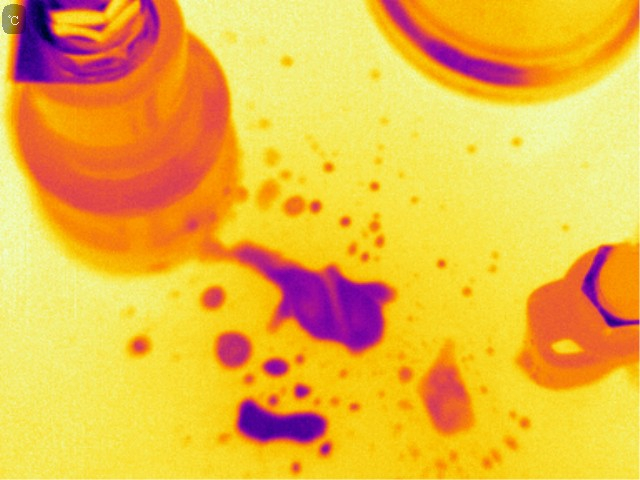Water: (220, 236, 398, 353), (418, 338, 475, 438), (229, 398, 330, 446), (212, 329, 257, 367), (252, 170, 277, 210), (261, 358, 295, 381), (198, 282, 227, 308), (283, 191, 306, 218), (505, 409, 530, 432), (483, 444, 502, 470), (499, 434, 523, 453), (305, 195, 326, 216), (366, 178, 386, 196), (287, 457, 308, 474), (315, 443, 338, 458), (281, 50, 298, 68), (370, 216, 387, 234), (507, 134, 525, 151), (399, 368, 415, 386), (338, 214, 358, 228), (342, 237, 357, 255), (464, 142, 483, 155), (462, 288, 478, 303), (337, 367, 352, 383), (321, 164, 340, 176), (372, 234, 386, 250), (133, 336, 146, 353), (348, 398, 361, 413), (359, 250, 374, 263), (434, 257, 447, 271)
